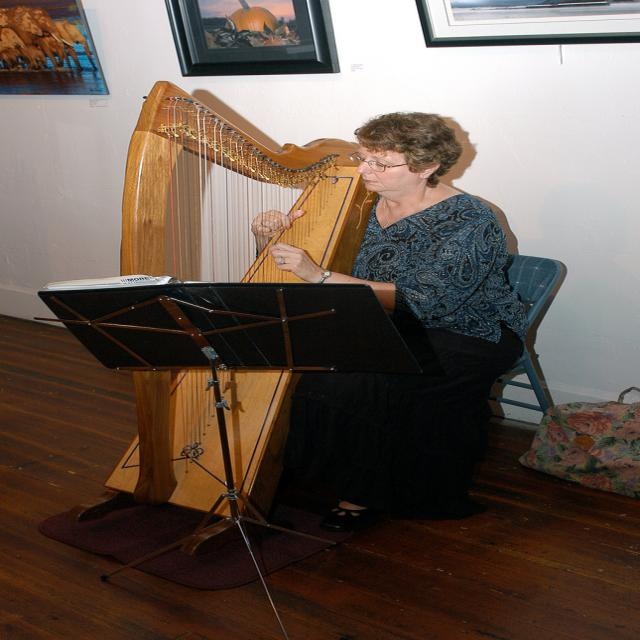harp: (98, 79, 386, 532)
